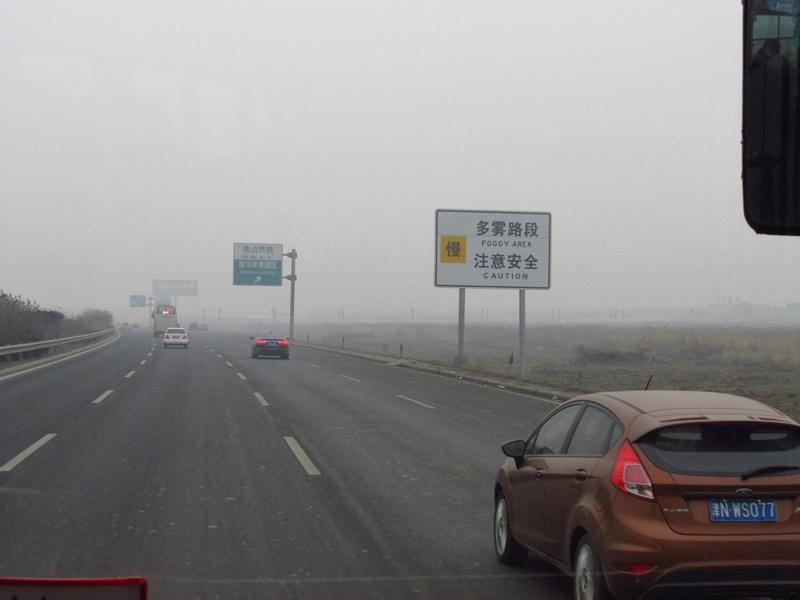bus: (152, 305, 178, 338)
car: (491, 390, 800, 600), (249, 330, 290, 361), (162, 327, 189, 349), (187, 322, 199, 333), (199, 324, 209, 334)
